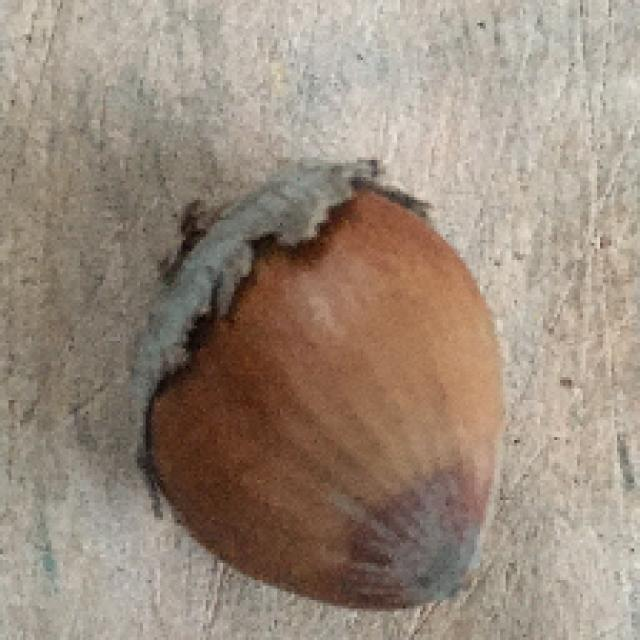damagedHazelnut: (119, 158, 507, 617)
